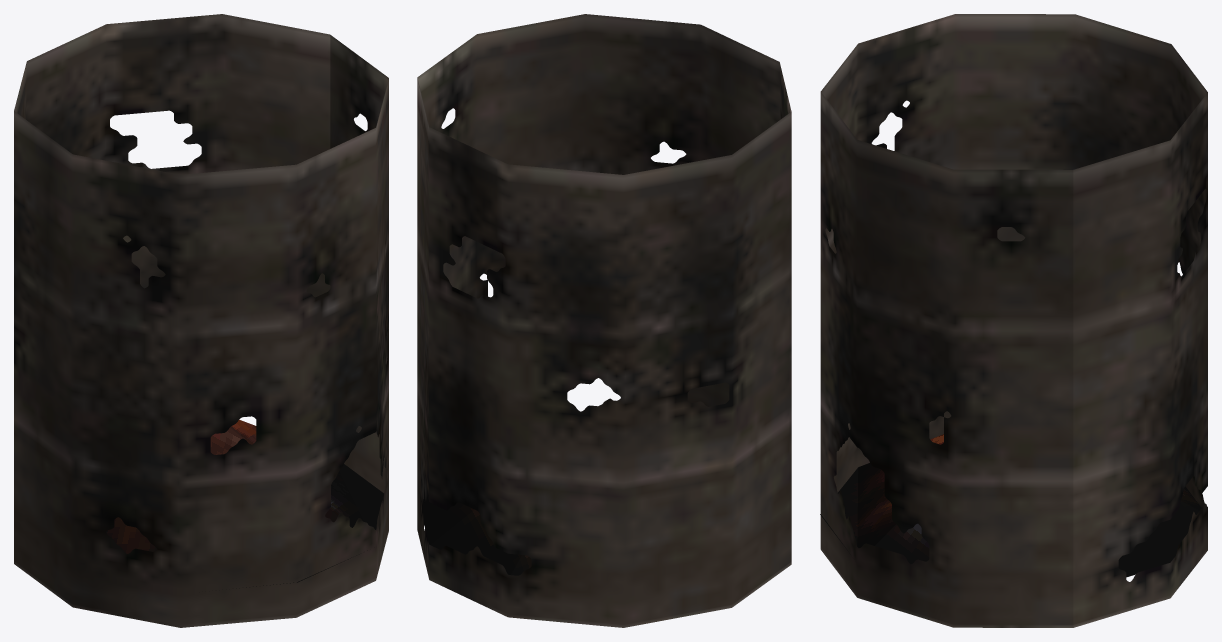
Rendered from FireBrl4.glb.
The picture shows the model from 3 angles, left to right: view 1: azimuth 30°, elevation 25°; view 2: azimuth 150°, elevation 25°; view 3: azimuth 270°, elevation 25°; orthographic projection.
Visible parts, largest first — view 1: _FireBrl4; view 2: _FireBrl4; view 3: _FireBrl4.
Part boxes in pixels (bbox=[...]): _FireBrl4: bbox=[14, 14, 388, 627]; _FireBrl4: bbox=[417, 14, 791, 627]; _FireBrl4: bbox=[820, 14, 1207, 627].
Bounding box in the file's own units: 0.962 × 1.32 × 1.01.
2 materials, 2 textured.
